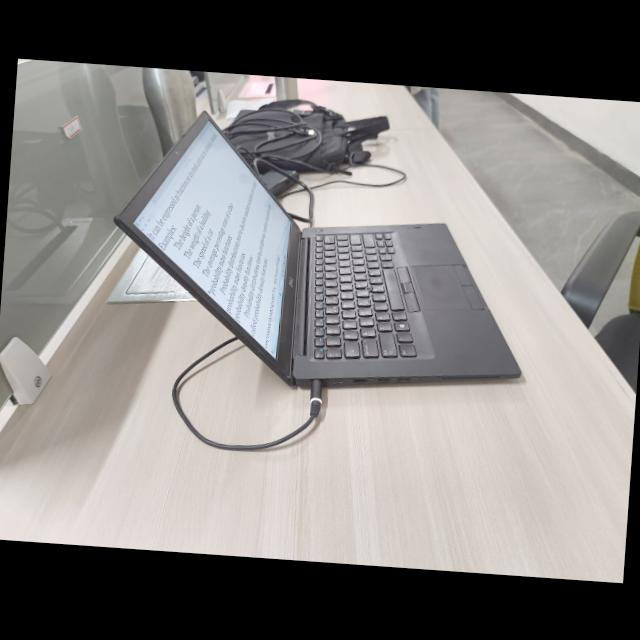laptop: (95, 123, 543, 405)
